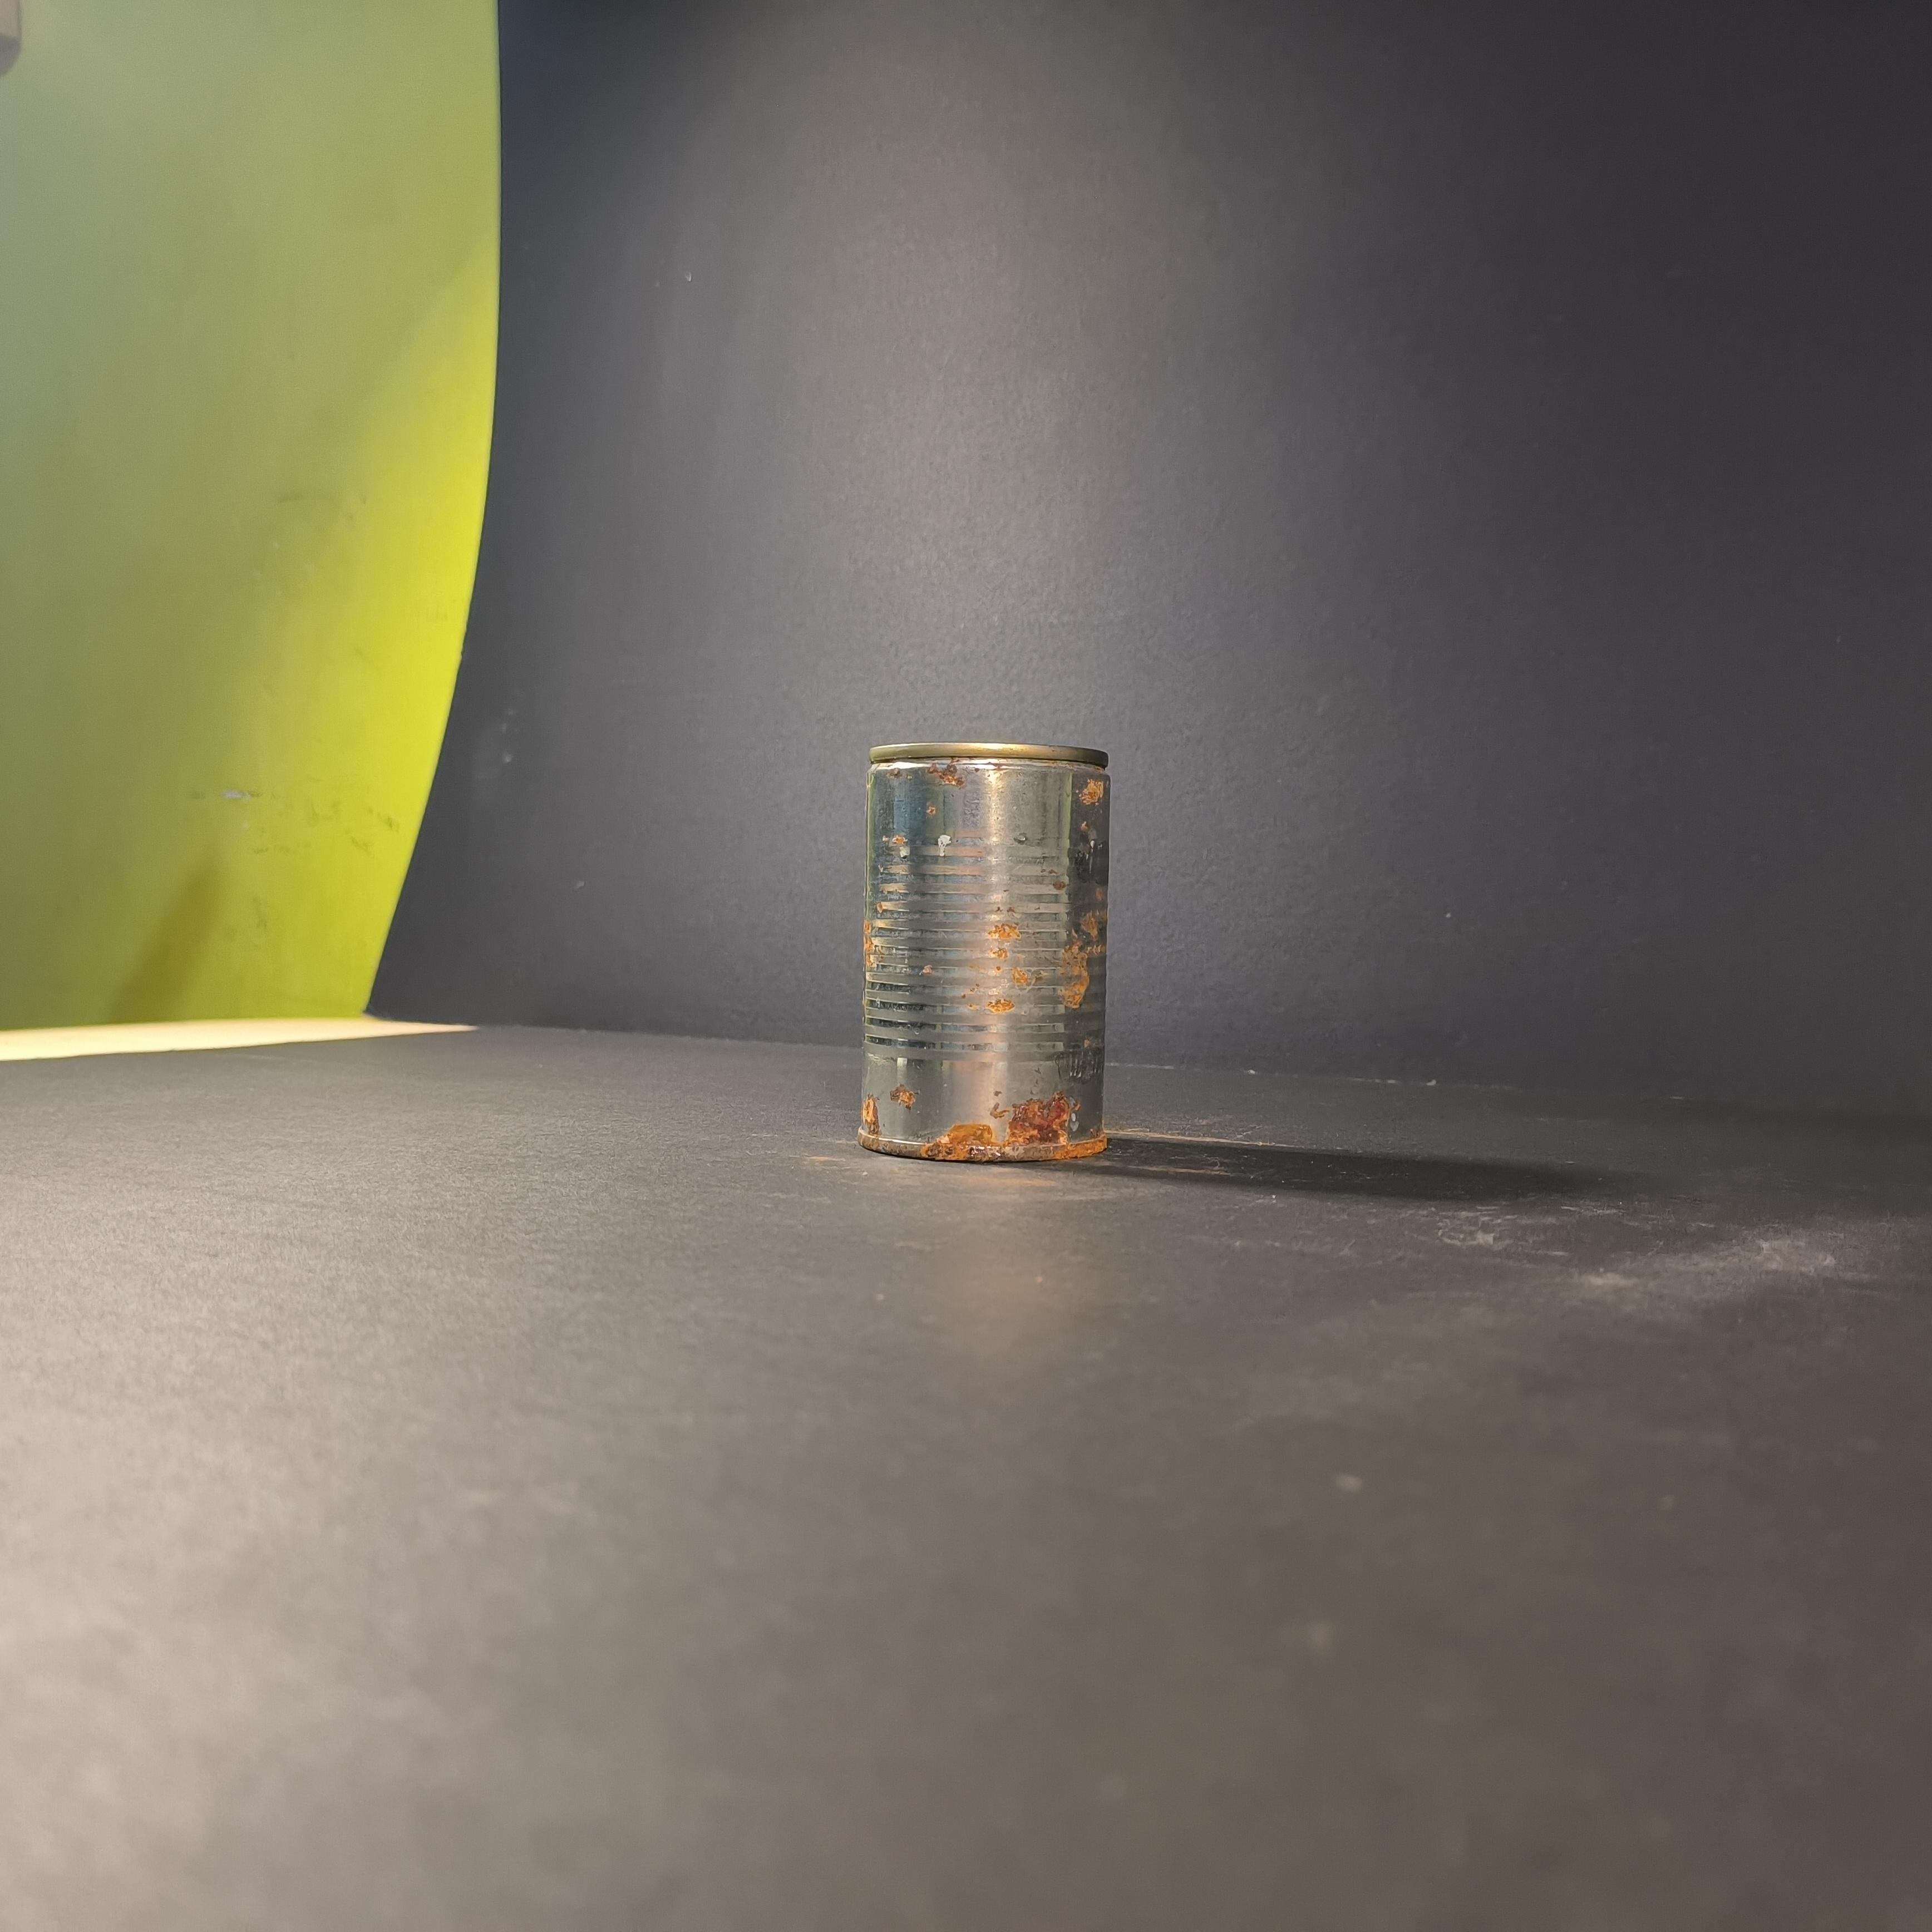Rusted: (830, 713, 1143, 1187)
